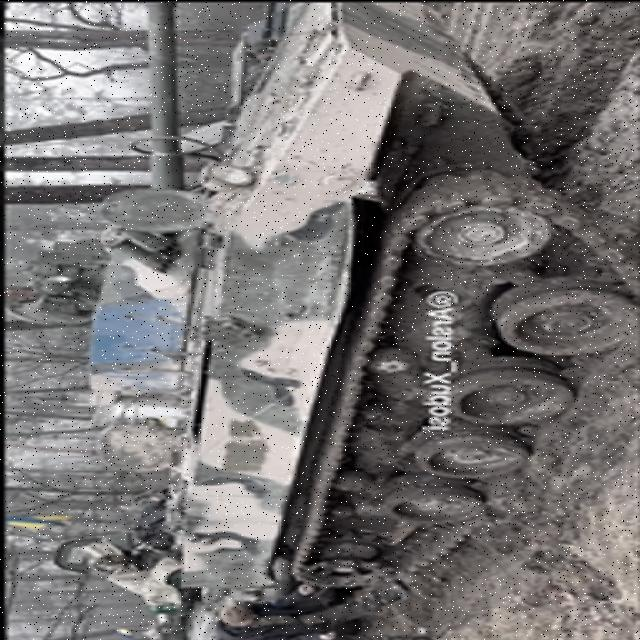APC-IFV: (75, 0, 636, 596)
